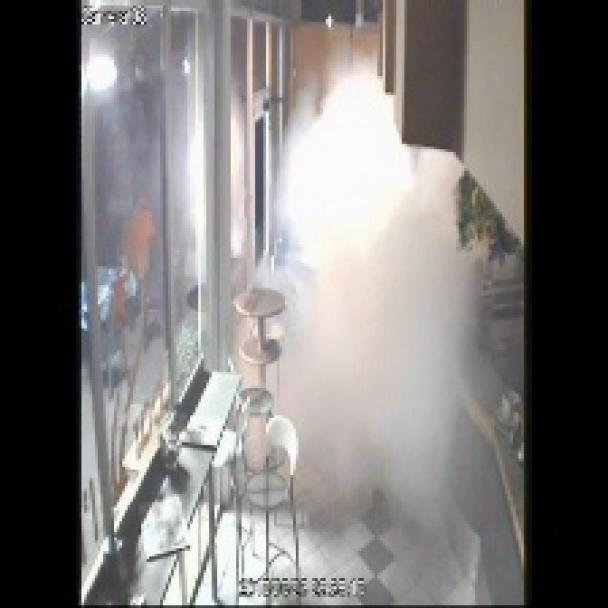smoke: (268, 48, 476, 518)
